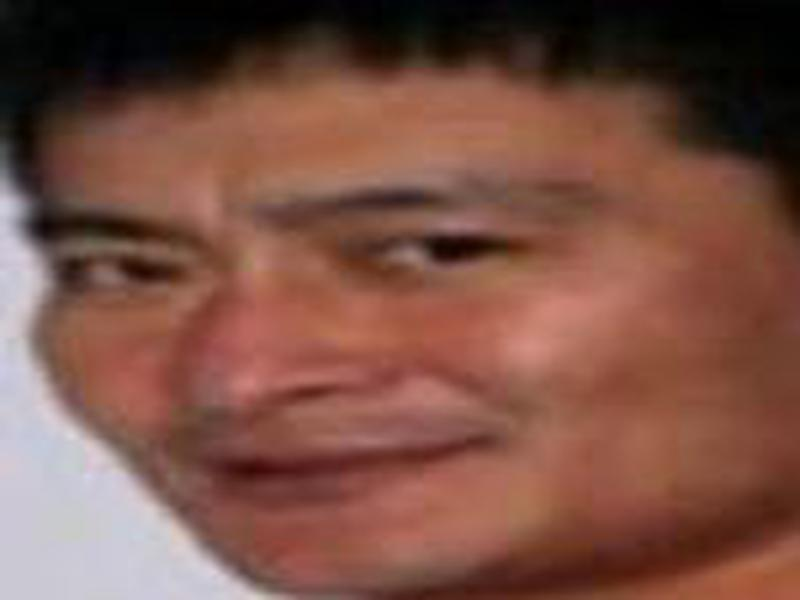without_mask: (4, 78, 779, 589)
